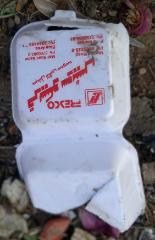general: (9, 9, 146, 234)
